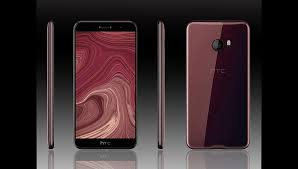htc: (73, 17, 137, 151), (186, 18, 250, 152)
